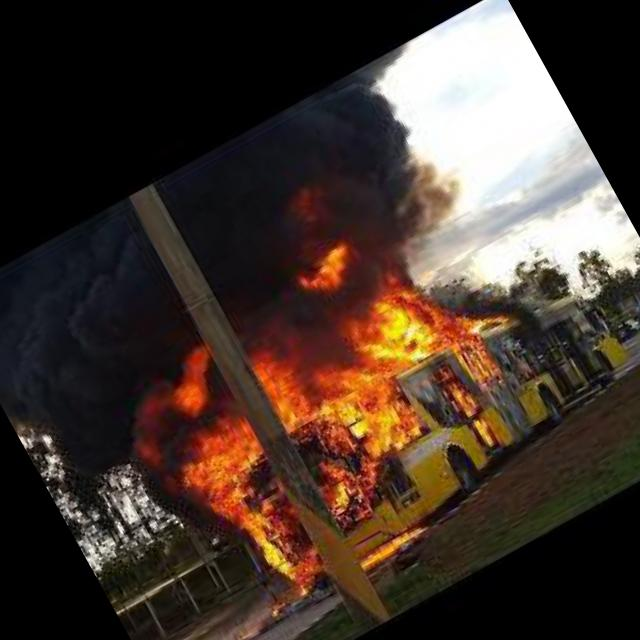fire: (96, 175, 585, 634)
smoke: (0, 47, 513, 487)
